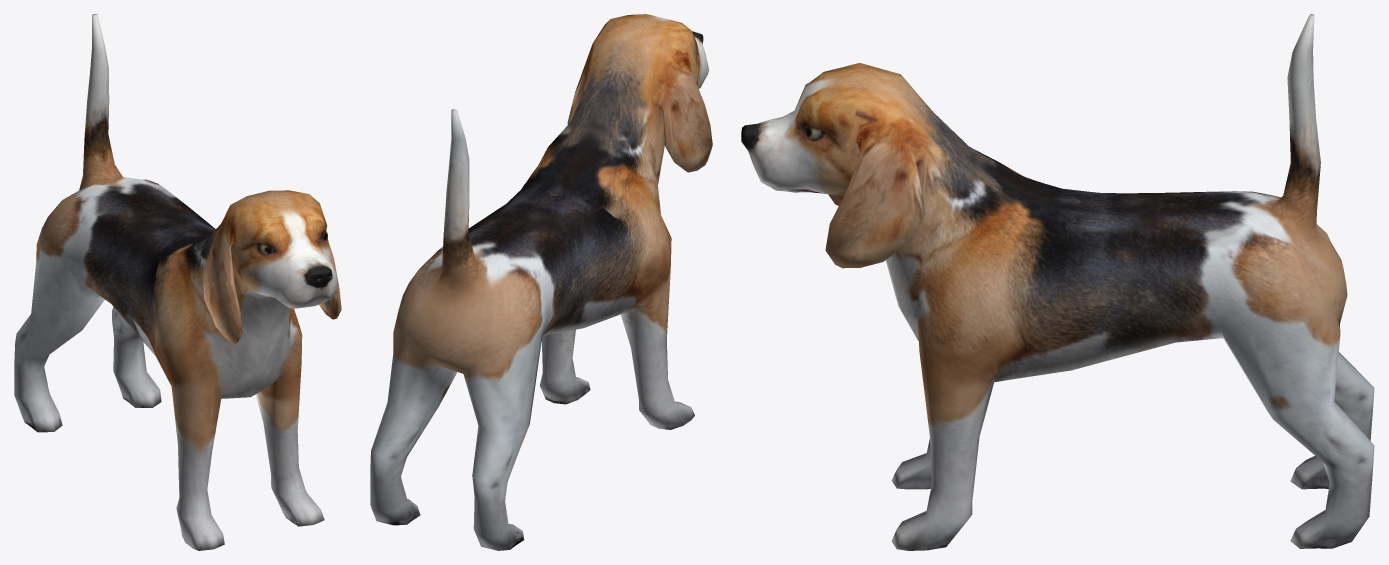
File: beagle.glb
3 renders of one model, left to right at view 1: azimuth 30°, elevation 25°; view 2: azimuth 150°, elevation 25°; view 3: azimuth 270°, elevation 25°, orthographic. The views are drawn at different scales.
Visible parts, largest first — view 1: Beagle; view 2: Beagle; view 3: Beagle.
Part boxes in pixels (x1,y1,x2,y2): Beagle: (14,14,341,550); Beagle: (370,14,712,550); Beagle: (741,14,1374,550).
Size of the model in its own units: 35.99 by 106 by 122.
Materials: 1 (1 with a texture image).
